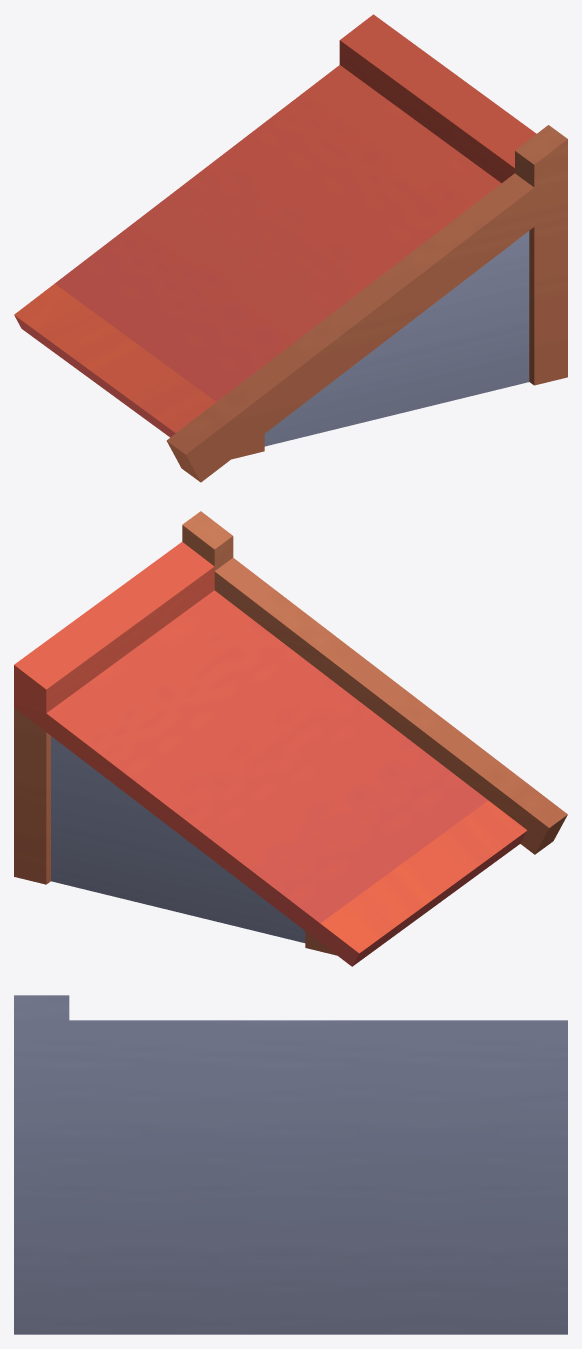
Rendered from roofRight.fbx.
3 views of the same model, one above another, from view 1: azimuth 30°, elevation 25°; view 2: azimuth 150°, elevation 25°; view 3: azimuth 270°, elevation 25° (orthographic). The views are drawn at different scales.
Visible parts, largest first — view 1: roofRight; view 2: roofRight; view 3: roofRight.
Boxes of the visible parts, box(x1,y1,x2,y2) form: roofRight: box(14, 14, 567, 482); roofRight: box(14, 511, 567, 966); roofRight: box(14, 995, 567, 1334).
Size of the model in its own units: 1.13 by 1 by 0.7206.
